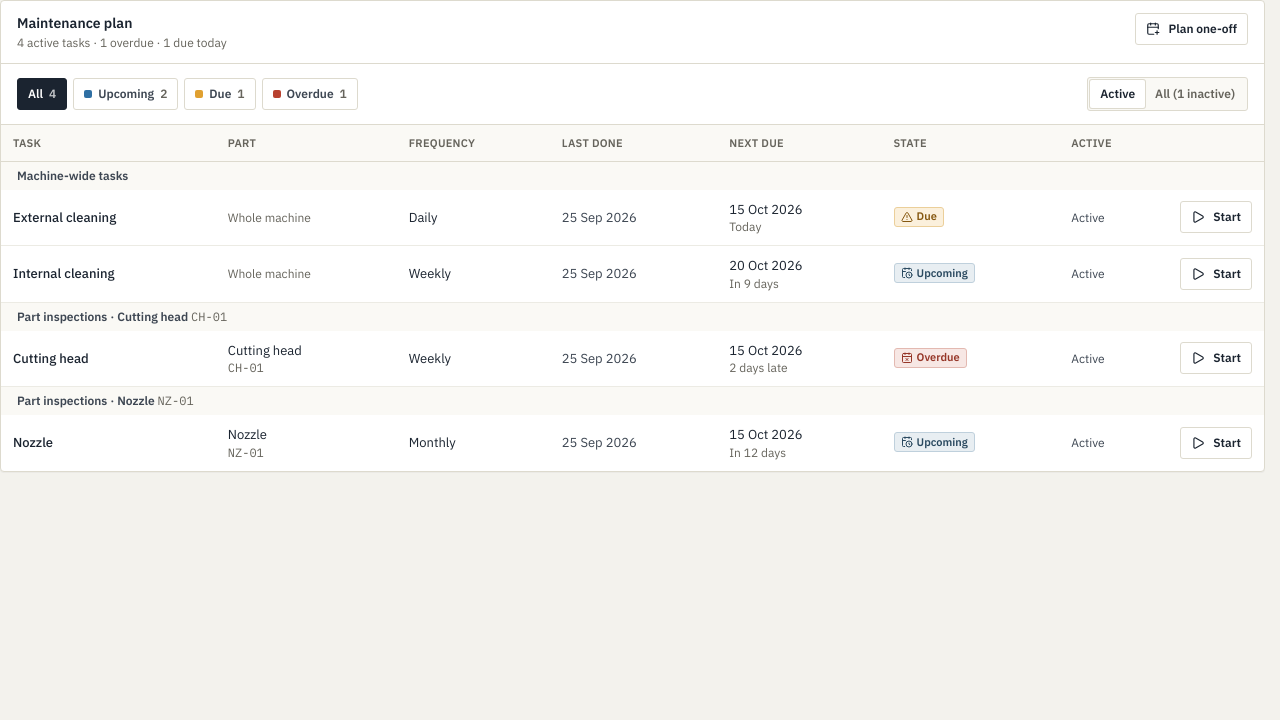
Test: Machine maintenance plan › hides inactive tasks until asked, then greys them out
Check: the text "Nozzle alignment" is not shown
Click the radio button labelled "All (1 inactive)": (1195, 94) [1145, 80, 1245, 108]
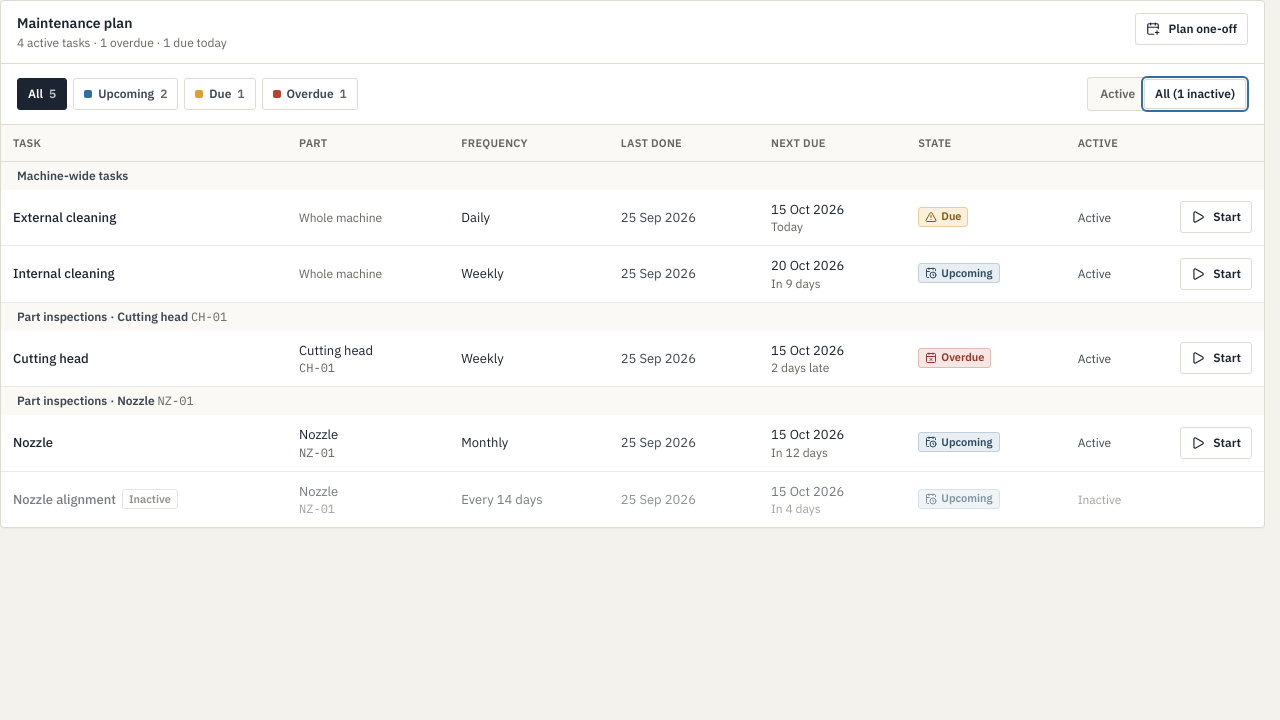
Check: the text "Every 14 days" is shown, box [449, 471, 609, 527]
